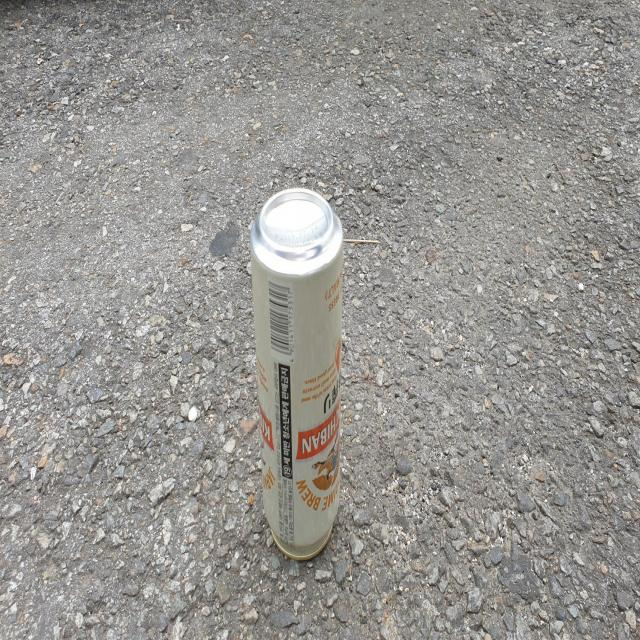can: (250, 187, 343, 560)
